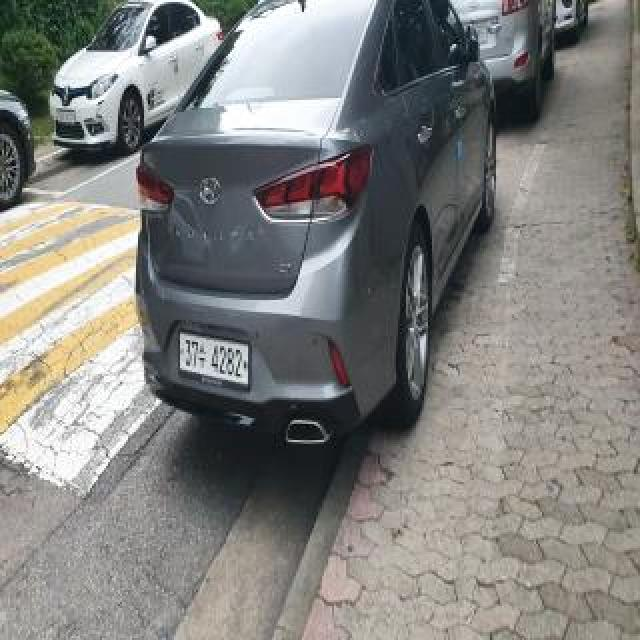car: (129, 0, 506, 448)
illegal_plate: (178, 327, 251, 396)
